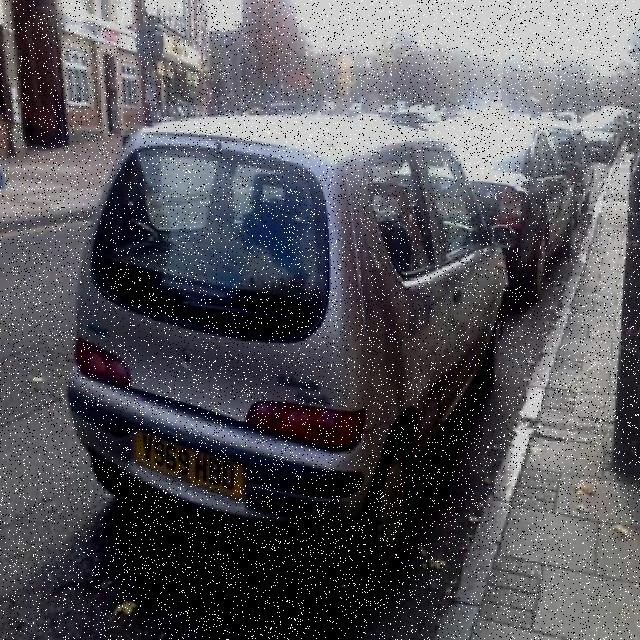license_plate: (132, 426, 245, 503), (434, 195, 468, 214)
